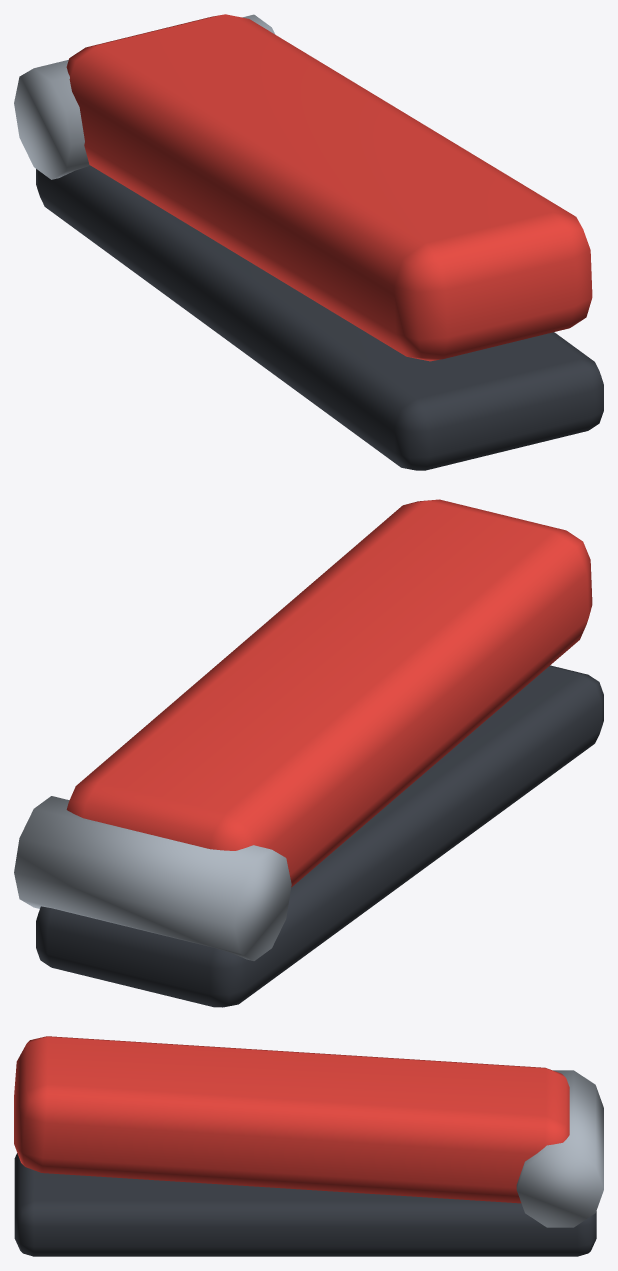
Rendered from Stapler.fbx.
3 renders of one model, top to bottom at view 1: azimuth 30°, elevation 25°; view 2: azimuth 150°, elevation 25°; view 3: azimuth 270°, elevation 25°, orthographic. The views are drawn at different scales.
Parts seen in each view (by area): view 1: Top.005, Base.006, Hinge; view 2: Top.005, Base.006, Hinge; view 3: Top.005, Base.006, Hinge.
Part boxes in pixels (x1=…): Top.005: x1=66, y1=14, x2=592, y2=361; Base.006: x1=36, y1=165, x2=603, y2=470; Hinge: x1=14, y1=14, x2=275, y2=179; Top.005: x1=66, y1=499, x2=592, y2=887; Base.006: x1=36, y1=665, x2=603, y2=1007; Hinge: x1=14, y1=796, x2=291, y2=960; Top.005: x1=14, y1=1036, x2=569, y2=1203; Base.006: x1=14, y1=1153, x2=596, y2=1256; Hinge: x1=516, y1=1070, x2=603, y2=1227.
Size of the model in its own units: 0.08 by 0.0751 by 0.2433.
